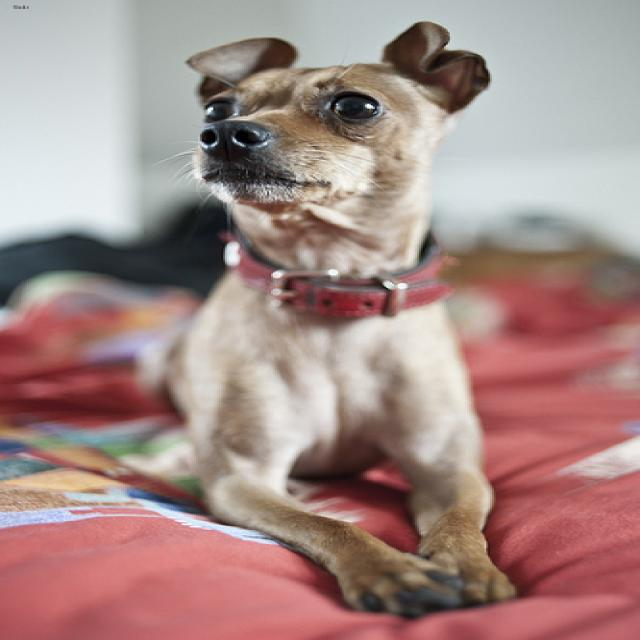dog-miniature_pinscher: (108, 15, 529, 626)
